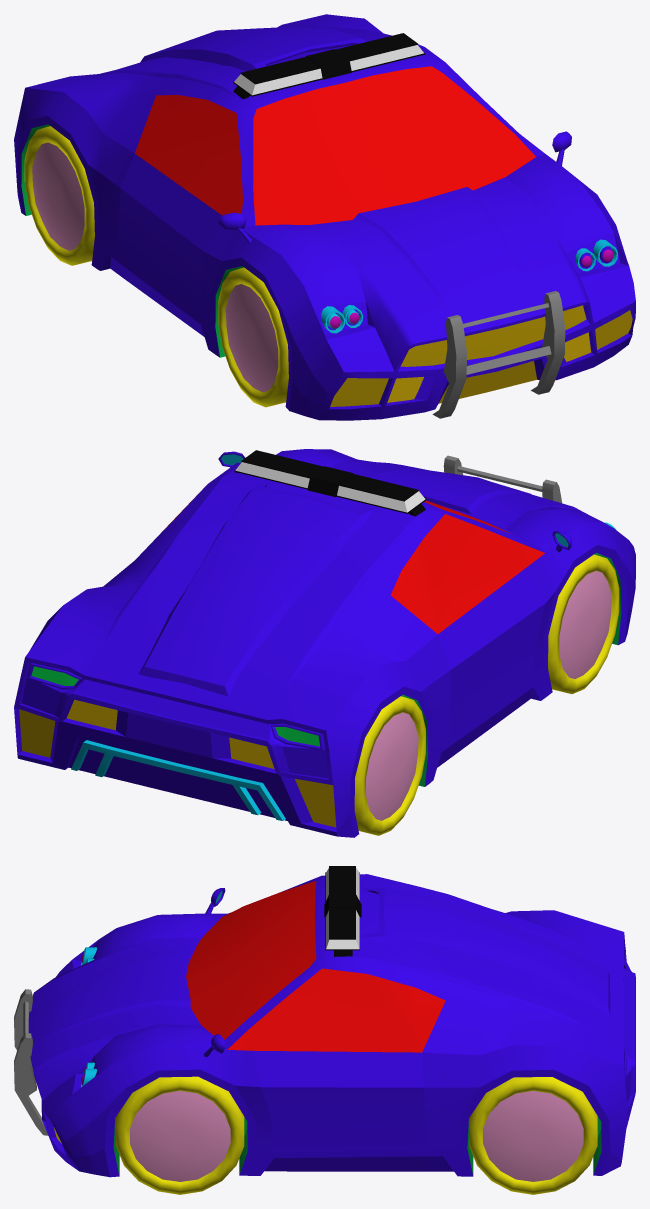
Rendered from 09_AzureusBlissPolice_ColorCoded.fbx.
The picture shows the model from 3 angles, top to bottom: view 1: azimuth 30°, elevation 25°; view 2: azimuth 150°, elevation 25°; view 3: azimuth 270°, elevation 25°; orthographic projection. The views are drawn at different scales.
Visible parts, largest first — view 1: Body, tireFrontR, tireBackR, police_light, police_ram; view 2: Body, tireFrontR, tireBackR, police_light, police_ram; view 3: Body, tireFrontL, tireBackL, police_light, police_ram.
Part boxes in pixels (left/top/right/bottom): Body: left=14, top=14, right=635, bottom=420; tireFrontR: left=218, top=267, right=288, bottom=407; tireBackR: left=24, top=126, right=94, bottom=265; police_light: left=233, top=33, right=425, bottom=99; police_ram: left=432, top=291, right=565, bottom=418; Body: left=14, top=449, right=635, bottom=837; tireFrontR: left=548, top=554, right=619, bottom=693; tireBackR: left=354, top=696, right=425, bottom=835; police_light: left=234, top=450, right=426, bottom=516; police_ram: left=443, top=455, right=562, bottom=503; Body: left=28, top=874, right=635, bottom=1177; tireFrontL: left=116, top=1076, right=244, bottom=1194; tireBackL: left=469, top=1077, right=597, bottom=1194; police_light: left=324, top=866, right=361, bottom=956; police_ram: left=14, top=989, right=48, bottom=1135.
Size of the model in its own units: 64.81 by 109 by 42.15.
